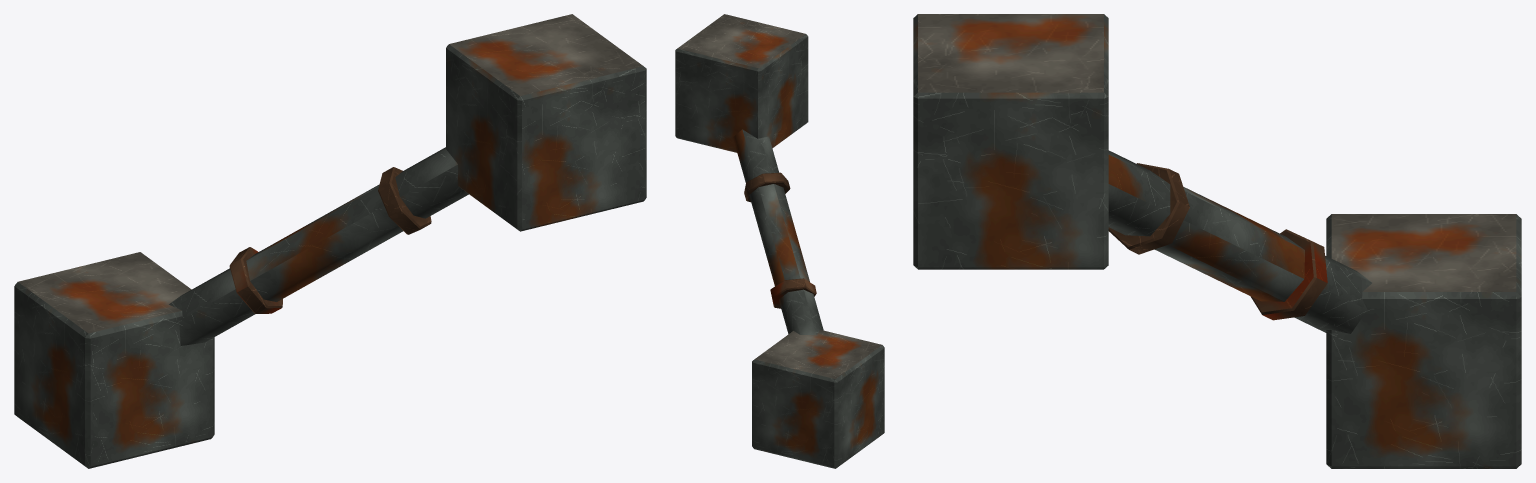
The model's file is R4C_STRUT_DIAG_3D_LOD1.glb.
The picture shows the model from 3 angles, left to right: view 1: azimuth 30°, elevation 25°; view 2: azimuth 150°, elevation 25°; view 3: azimuth 270°, elevation 25°; orthographic projection. The views are drawn at different scales.
Visible parts, largest first — view 1: R4C_STRUT_DIAG_3D_LOD1; view 2: R4C_STRUT_DIAG_3D_LOD1; view 3: R4C_STRUT_DIAG_3D_LOD1.
Part boxes in pixels (x1=…): R4C_STRUT_DIAG_3D_LOD1: x1=14, y1=14, x2=646, y2=468; R4C_STRUT_DIAG_3D_LOD1: x1=675, y1=14, x2=884, y2=468; R4C_STRUT_DIAG_3D_LOD1: x1=913, y1=14, x2=1521, y2=468.
Size of the model in its own units: 1.62 by 1.62 by 1.62.
3 materials, 3 textured.
